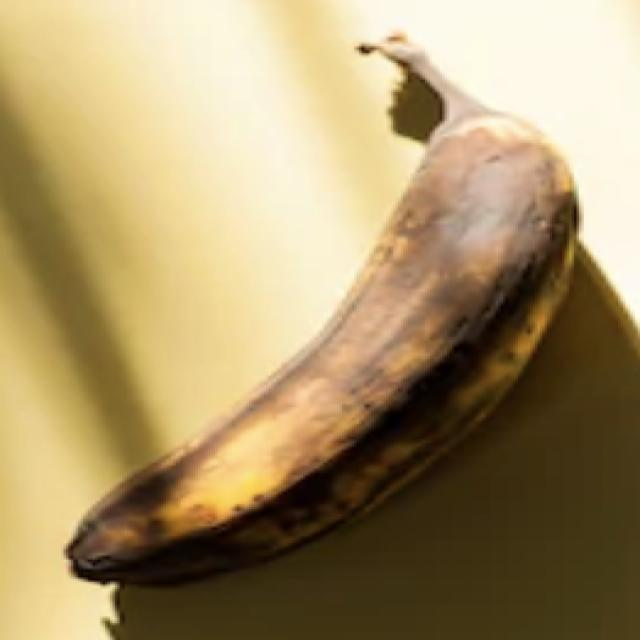banana: (66, 35, 578, 585)
